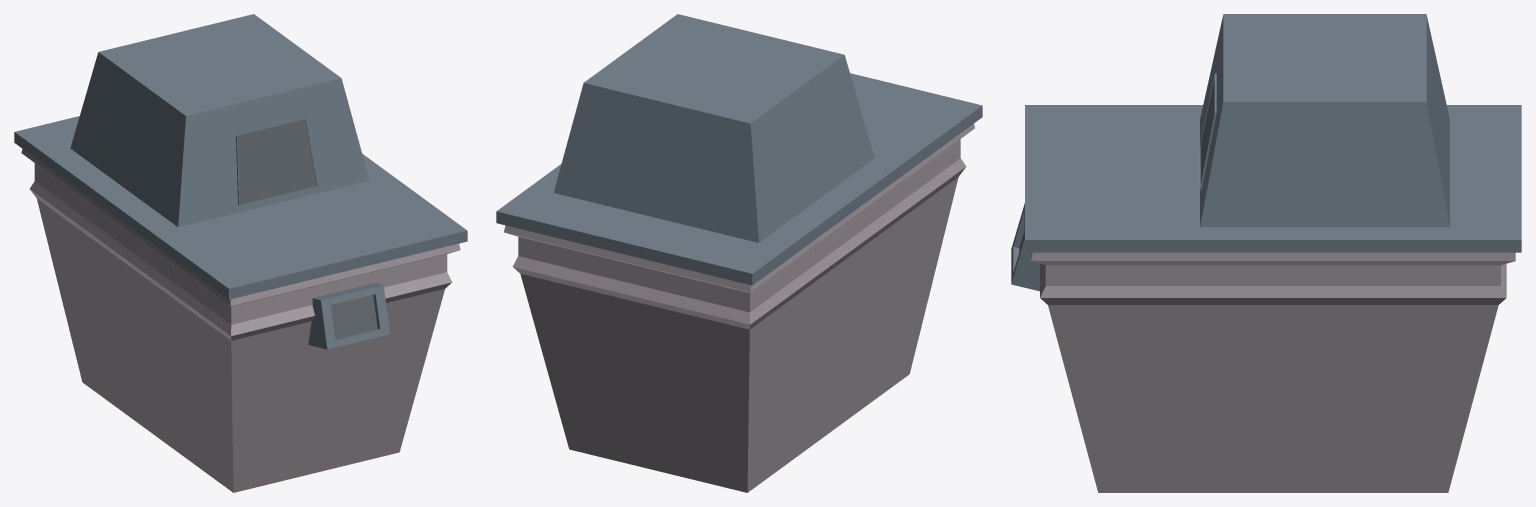
The model's file is machine.gltf.
3 views of the same model, side by side, from view 1: azimuth 30°, elevation 25°; view 2: azimuth 150°, elevation 25°; view 3: azimuth 270°, elevation 25° (orthographic). The views are drawn at different scales.
Parts seen in each view (by area): view 1: Cube.002, Cube, Cube.001; view 2: Cube, Cube.002; view 3: Cube, Cube.002, Cube.001.
Part boxes in pixels (x1,y1,x2,y2): Cube.002: (14,14,467,299); Cube: (21,149,460,492); Cube.001: (308,283,389,349); Cube: (504,124,974,492); Cube.002: (496,14,982,285); Cube: (1031,252,1515,492); Cube.002: (1025,14,1521,252); Cube.001: (1011,203,1039,291).
Bounding box in the file's own units: 2.12 × 2.85 × 3.39.
